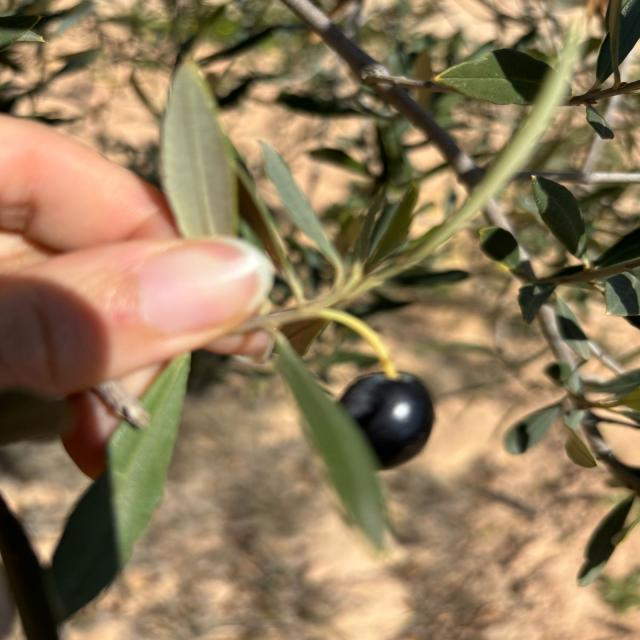Healthy: (161, 56, 244, 238), (339, 372, 435, 469)
